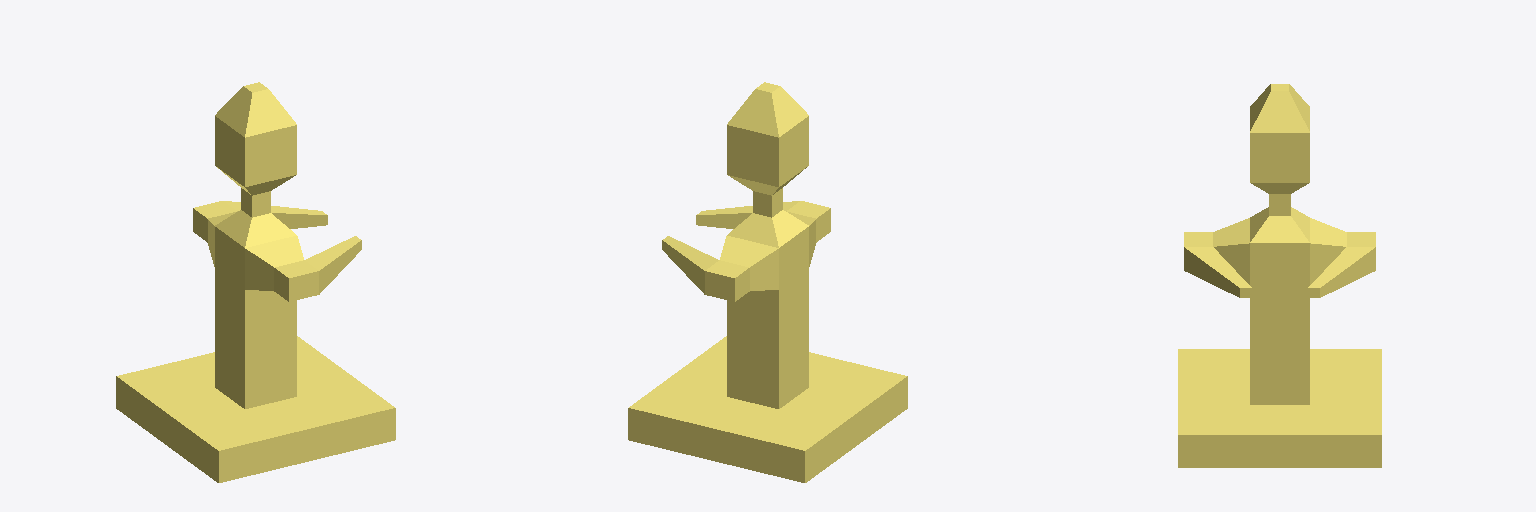
Rendered from statue.obj.
3 renders of one model, left to right at view 1: azimuth 30°, elevation 25°; view 2: azimuth 150°, elevation 25°; view 3: azimuth 270°, elevation 25°, orthographic.
Visible parts, largest first — view 1: Cube_Cube.011; view 2: Cube_Cube.011; view 3: Cube_Cube.011.
Part boxes in pixels (x1,y1,x2,y2): Cube_Cube.011: (116,82,395,482); Cube_Cube.011: (628,82,907,482); Cube_Cube.011: (1178,84,1381,467).
Size of the model in its own units: 2 by 3.64 by 2.